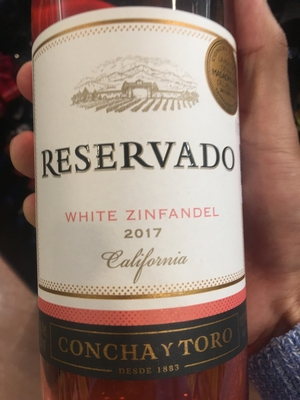reservado white zinfandel: (22, 5, 255, 400)
